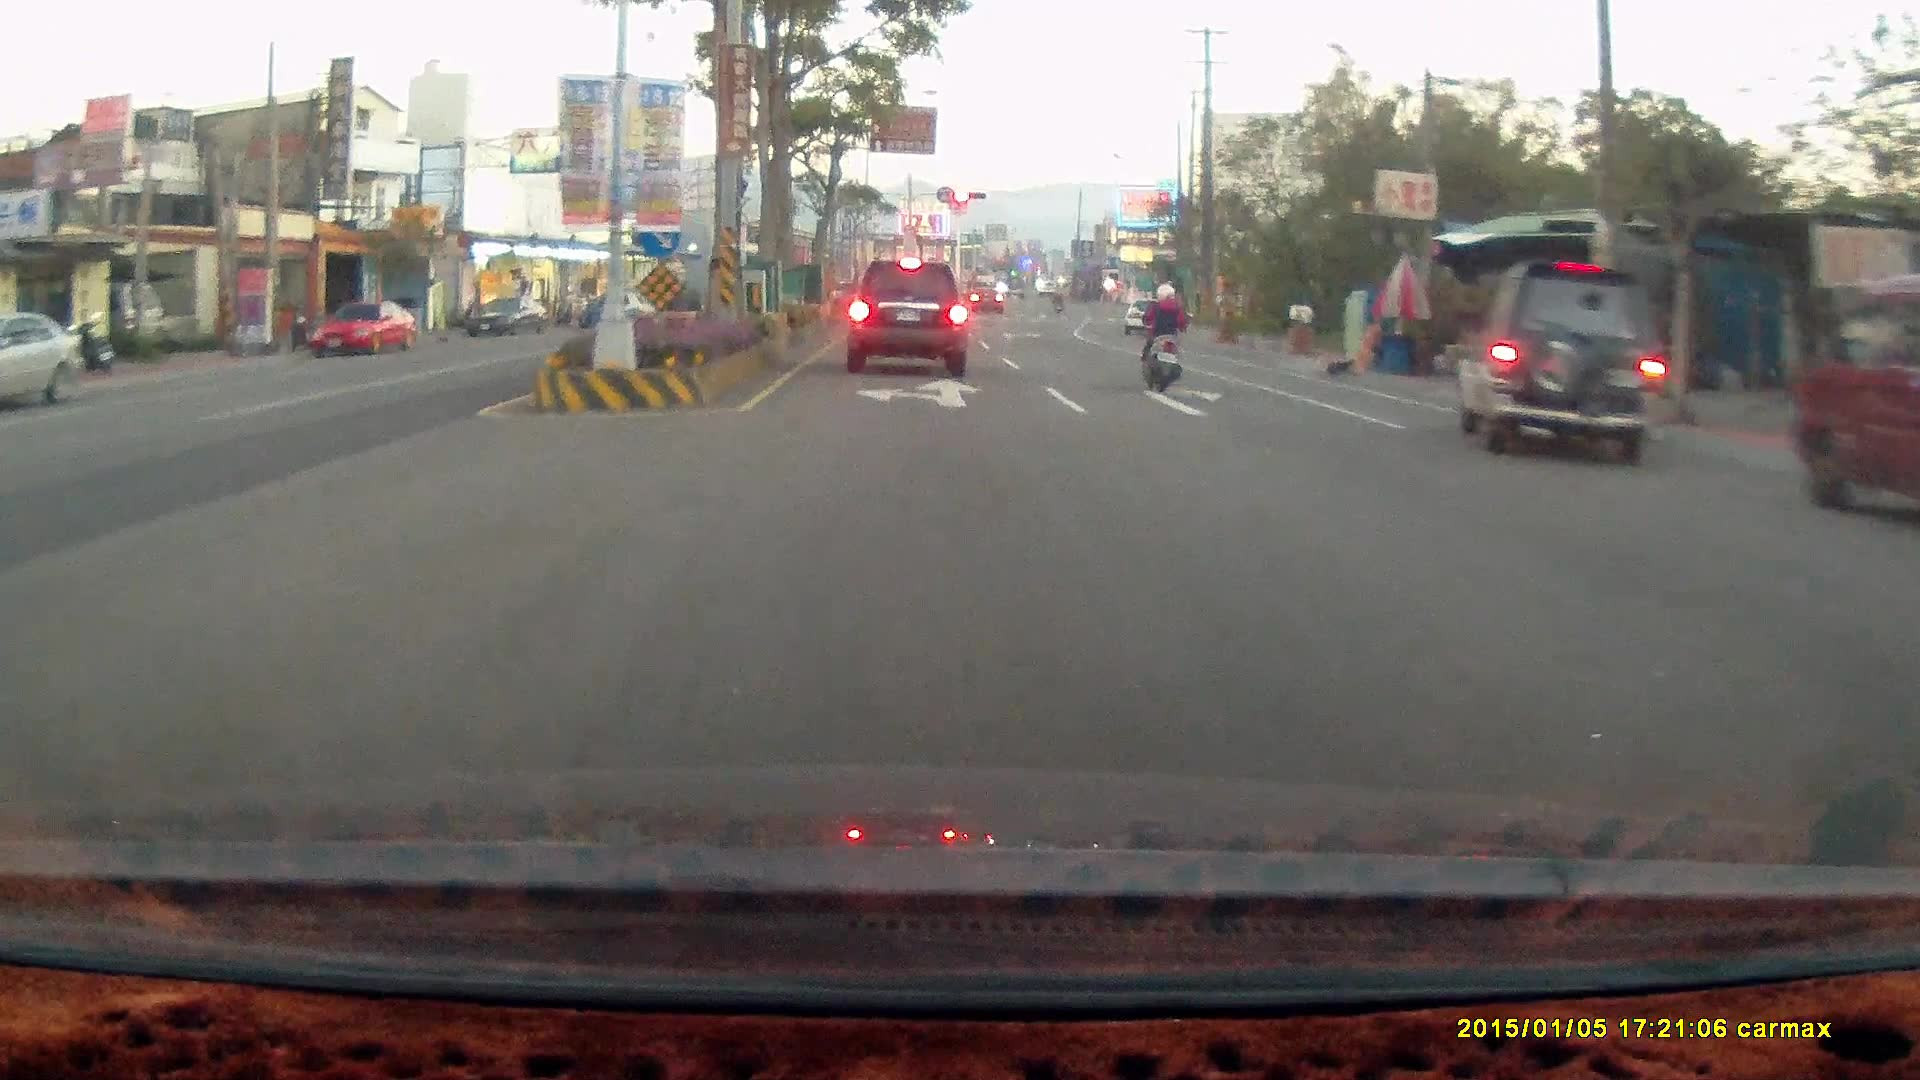rider: (1136, 279, 1187, 392)
vehicle: (1450, 257, 1666, 464), (1457, 258, 1666, 463), (1792, 265, 1920, 526), (1791, 274, 1920, 528), (843, 258, 967, 375), (1, 310, 88, 411), (0, 309, 84, 410), (1896, 493, 1920, 836), (306, 296, 420, 359), (306, 297, 417, 357), (1883, 528, 1920, 690), (472, 296, 549, 345), (1123, 297, 1176, 335)
